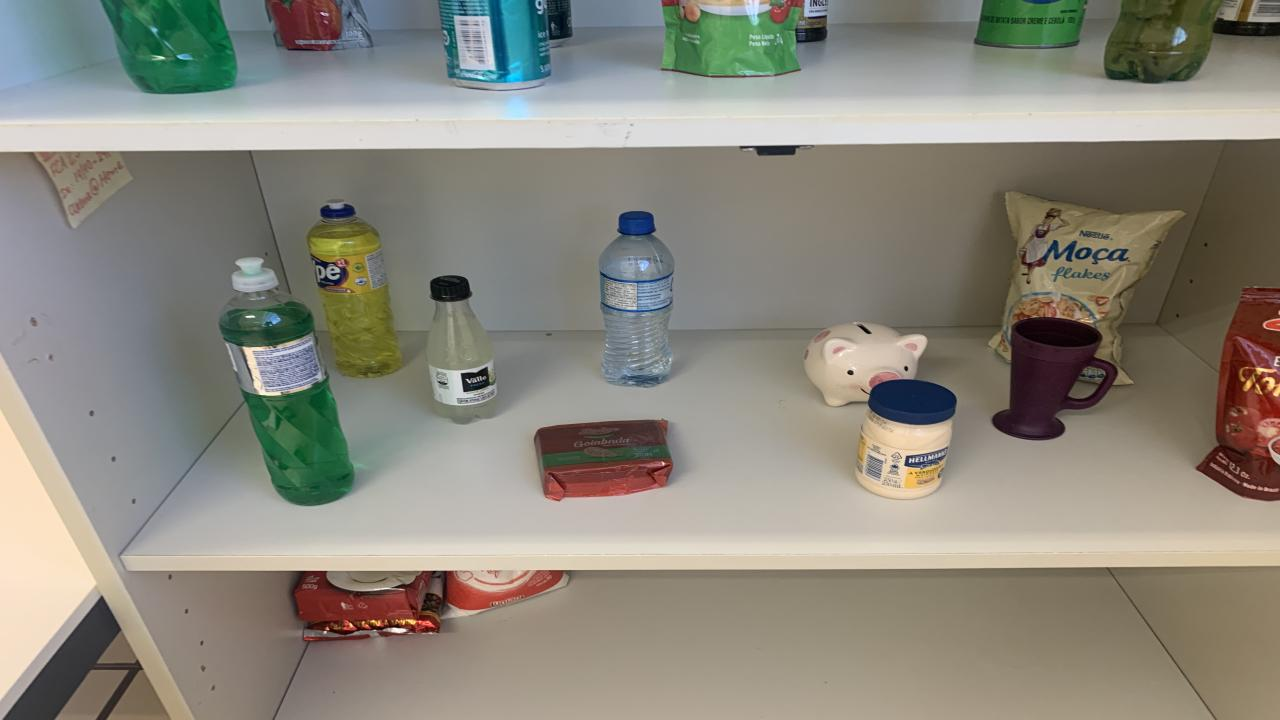Detergent-Cleanup_Items: (220, 257, 355, 504), (308, 202, 402, 377), (100, 0, 238, 94)
English_Sauce-Pantry_Items: (1212, 0, 1280, 36), (795, 0, 828, 43)
Flakes-Snacks: (990, 191, 1185, 386), (1080, 368, 1102, 382)
Guarana-Drinks: (1105, 0, 1220, 82)
Guarana_Can-Drinks: (548, 0, 572, 47)
Guava-Snacks: (535, 420, 672, 501), (460, 399, 465, 405)
Mayonnaise-Pantry_Items: (855, 379, 958, 499)
Pig_Safe-Miscellaneous: (805, 322, 928, 407)
Pringles-Snacks: (975, 0, 1088, 49)
Soda-Drinks: (428, 276, 498, 422)
Tea-Drinks: (438, 0, 550, 90)
Tomato_Sauce-Pantry_Items: (1198, 287, 1280, 501), (662, 0, 802, 77), (265, 0, 372, 51)
Water_Bottle-Drinks: (600, 212, 675, 388)
